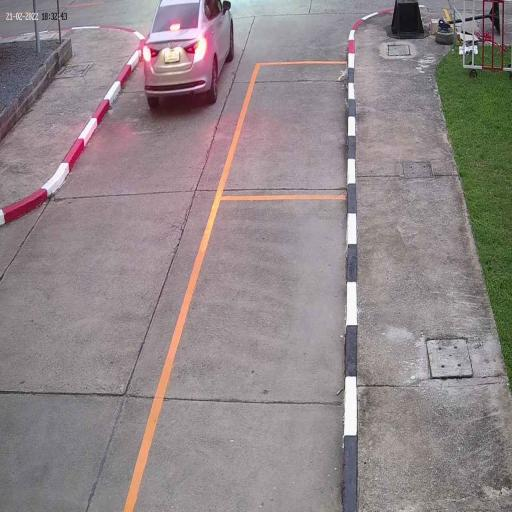car: (142, 0, 236, 109)
